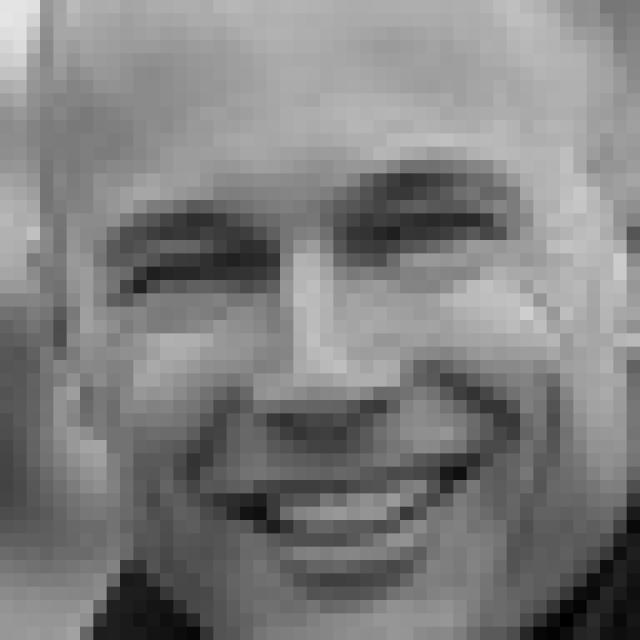happy: (103, 149, 572, 597)
